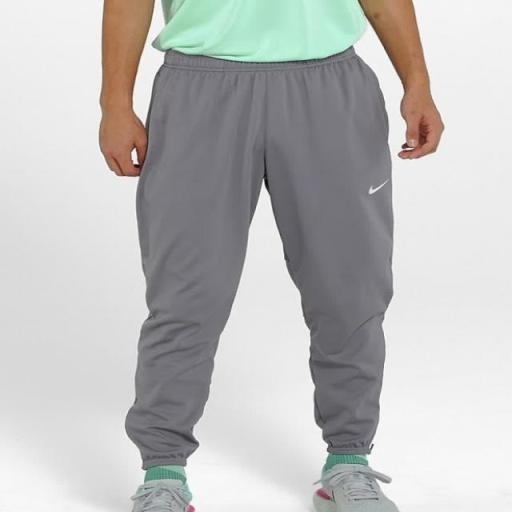Nike: (360, 169, 393, 201)
